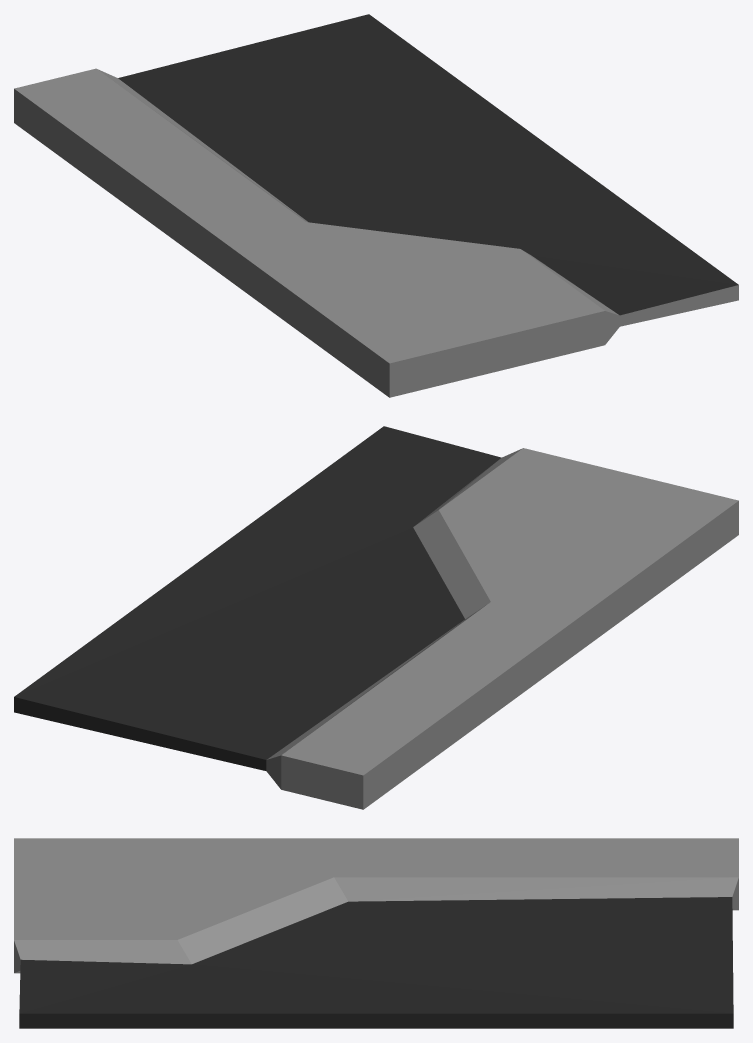
Rendered from keycard.FBX.
3 renders of one model, top to bottom at view 1: azimuth 30°, elevation 25°; view 2: azimuth 150°, elevation 25°; view 3: azimuth 270°, elevation 25°, orthographic. The views are drawn at different scales.
Visible parts, largest first — view 1: keycard; view 2: keycard; view 3: keycard.
Boxes of the visible parts, left/top/right/bottom form: keycard: left=14, top=14, right=738, bottom=397; keycard: left=14, top=426, right=738, bottom=809; keycard: left=14, top=838, right=738, bottom=1028.
Size of the model in its own units: 4.92 by 0.4584 by 9.08.
